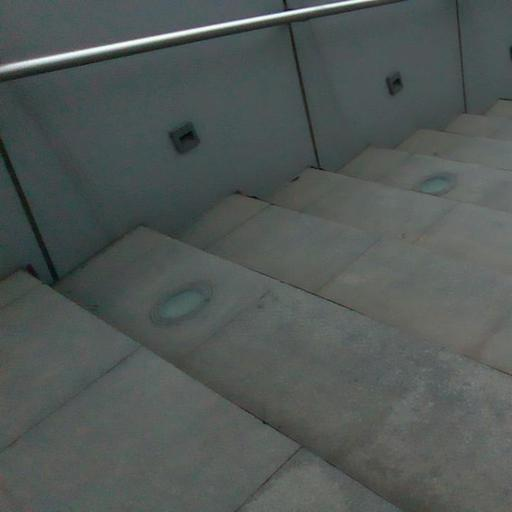stairs: (0, 102, 511, 511), (0, 273, 396, 511)
